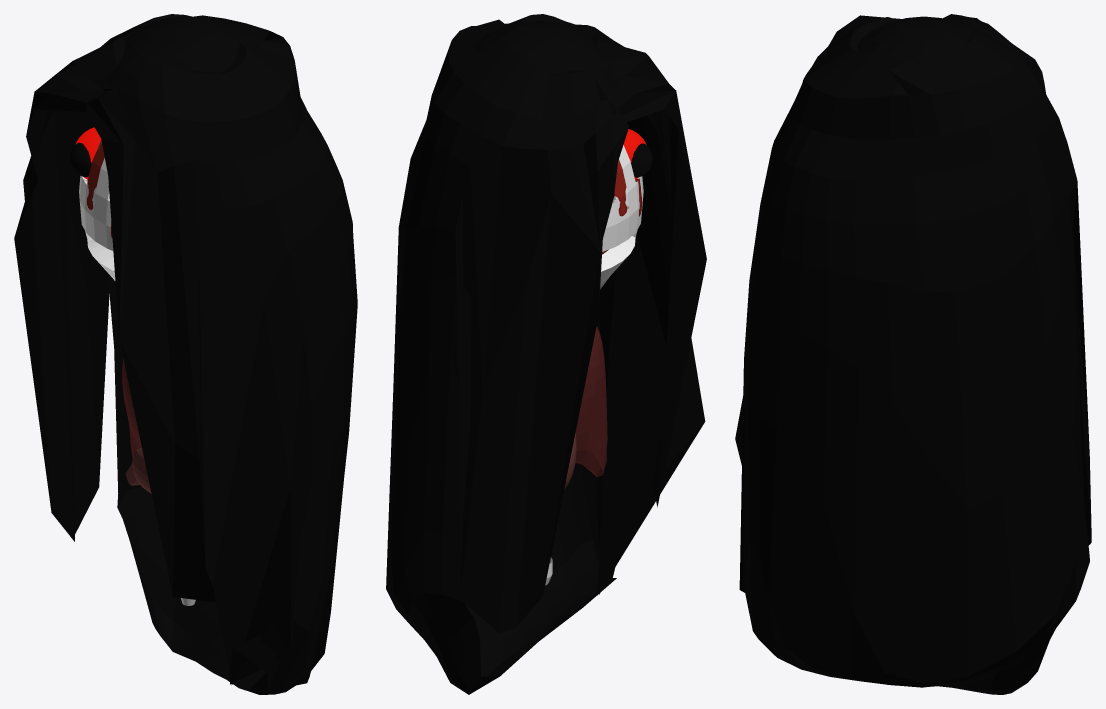
The model's file is kuyang.glb.
The picture shows the model from 3 angles, left to right: view 1: azimuth 30°, elevation 25°; view 2: azimuth 150°, elevation 25°; view 3: azimuth 270°, elevation 25°; orthographic projection. The views are drawn at different scales.
Parts seen in each view (by area): view 1: Sphere, Hair, Head, Sphere.006, Sphere.007, Sphere.003; view 2: Sphere, Hair, Head, Sphere.005, Sphere.004; view 3: Sphere, Hair.
Part boxes in pixels (x1,y1,x2,y2): Sphere: (14, 14, 357, 694); Hair: (105, 16, 250, 87); Head: (79, 140, 115, 280); Sphere.006: (122, 358, 141, 458); Sphere.007: (125, 447, 151, 493); Sphere.003: (70, 142, 91, 177); Sphere: (386, 14, 706, 694); Hair: (475, 21, 614, 94); Head: (600, 145, 643, 289); Sphere.005: (575, 326, 607, 477); Sphere.004: (631, 143, 652, 177); Sphere: (735, 14, 1091, 694); Hair: (857, 16, 978, 70).
Bounding box in the file's own units: 2.63 × 6.63 × 3.27.
12 materials, 1 textured.
